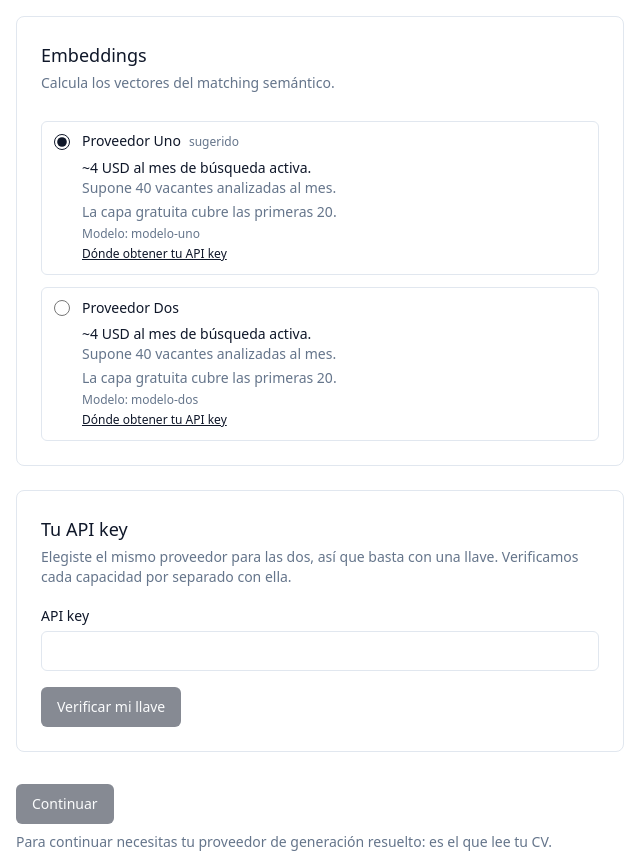
Test: el paso de proveedores nunca avanza solo (FR-007, art. X) › solo avanza cuando el candidato lo pide (art. X)
(page scrolled)
Type "una-llave-cualquiera" into the password field labelled "API key" at (320, 651), box 41,631 -> 599,671
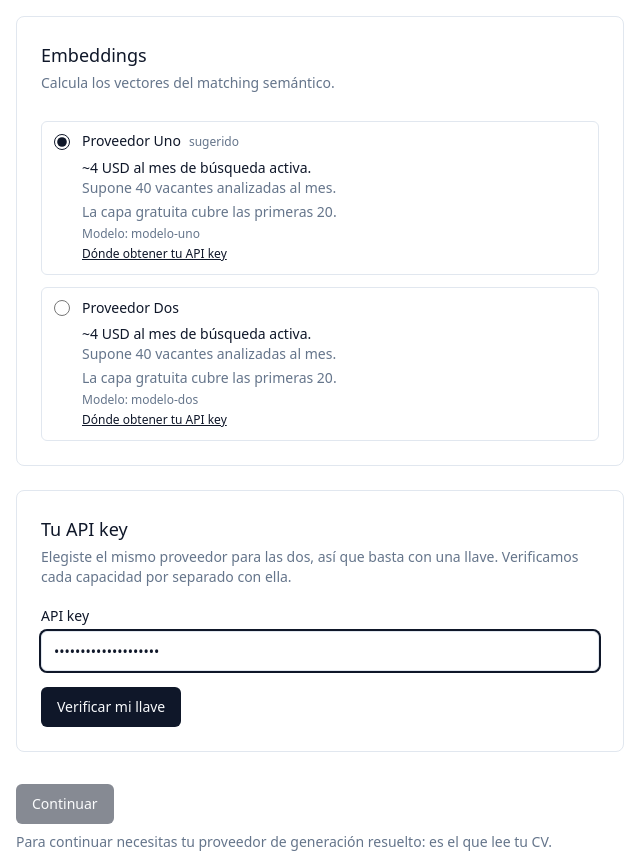
Click the button "Verificar mi llave" at (111, 707), box 41,687 -> 181,727
(page scrolled)
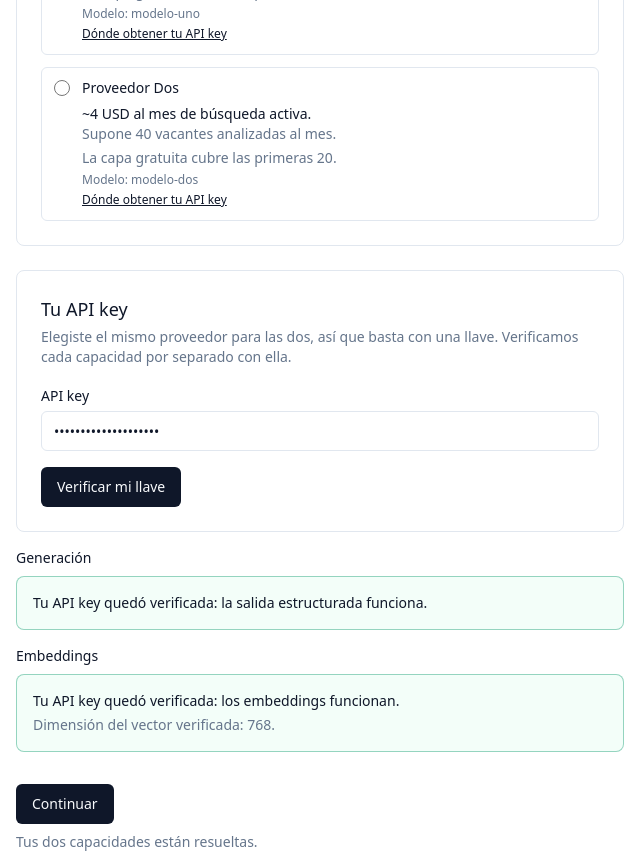
Expected: the heading "Vincular tu correo" is not shown
Expected: the text "Tu API key quedó verificada: la salida estructurada funciona." is shown, 33,593 -> 427,612
Click the button "Continuar" at (65, 804), box 16,784 -> 114,824
(page scrolled)
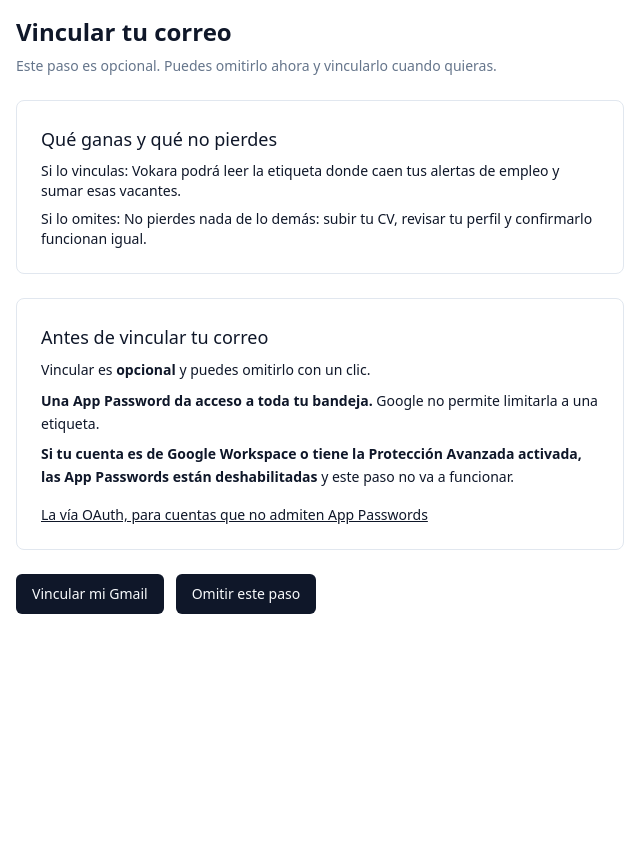
Expected: the heading "Vincular tu correo" is shown, 16,15 -> 232,48
